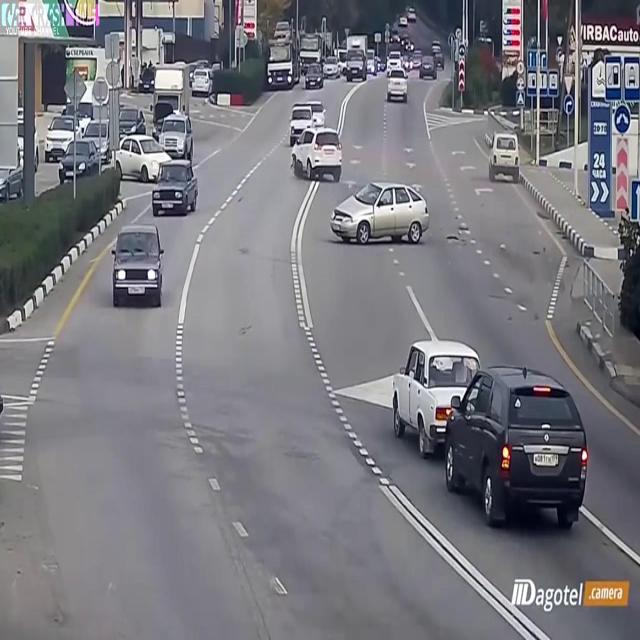accident: (287, 123, 472, 257)
non_accident: (391, 331, 593, 541), (43, 59, 201, 222)
